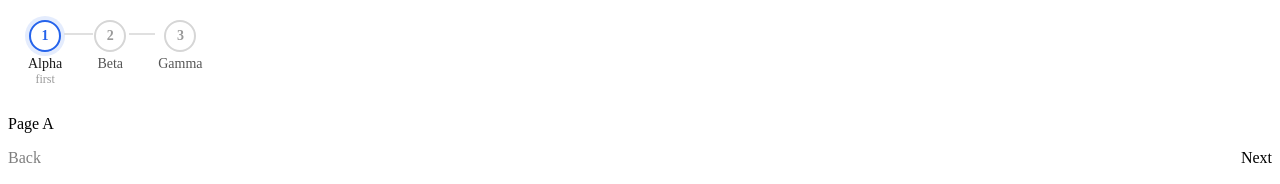
it: CoarWizard › disables Back on the first step and shows Finish on the last
Expected: the button "Back" is disabled, [8,149,41,167]
Click the button "Next" at (1256, 158), box [1241,149,1272,167]
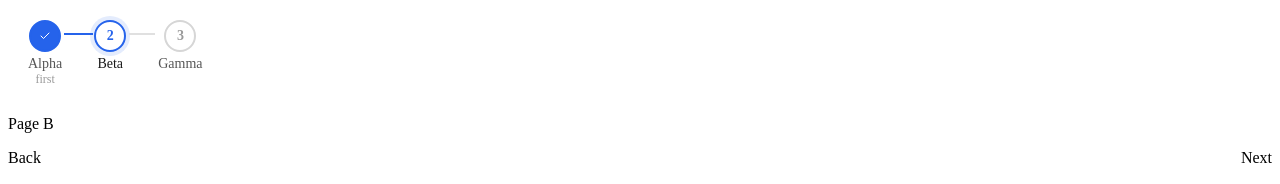
Click the button "Next" at (1256, 158), box [1241,149,1272,167]
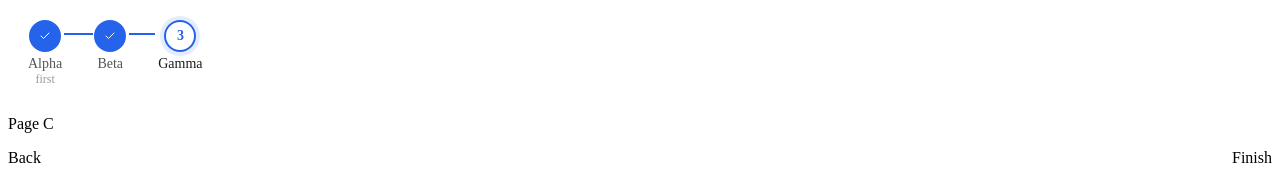
Expected: the button "Finish" is shown, [1232,149,1272,167]
Now the text "Page C" is shown, box [8,115,54,132]
